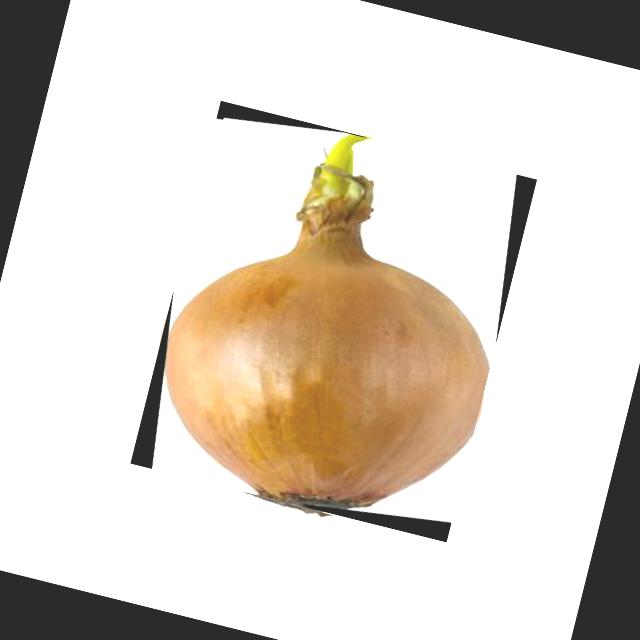sprouting: (165, 136, 490, 511)
